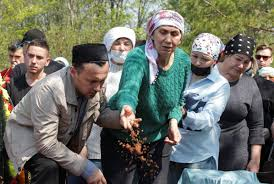with_incorrect_mask: (112, 40, 133, 62), (193, 52, 213, 75)
without_mask: (157, 26, 177, 54), (84, 72, 104, 98), (230, 52, 249, 78), (26, 50, 42, 72), (256, 51, 269, 68)
